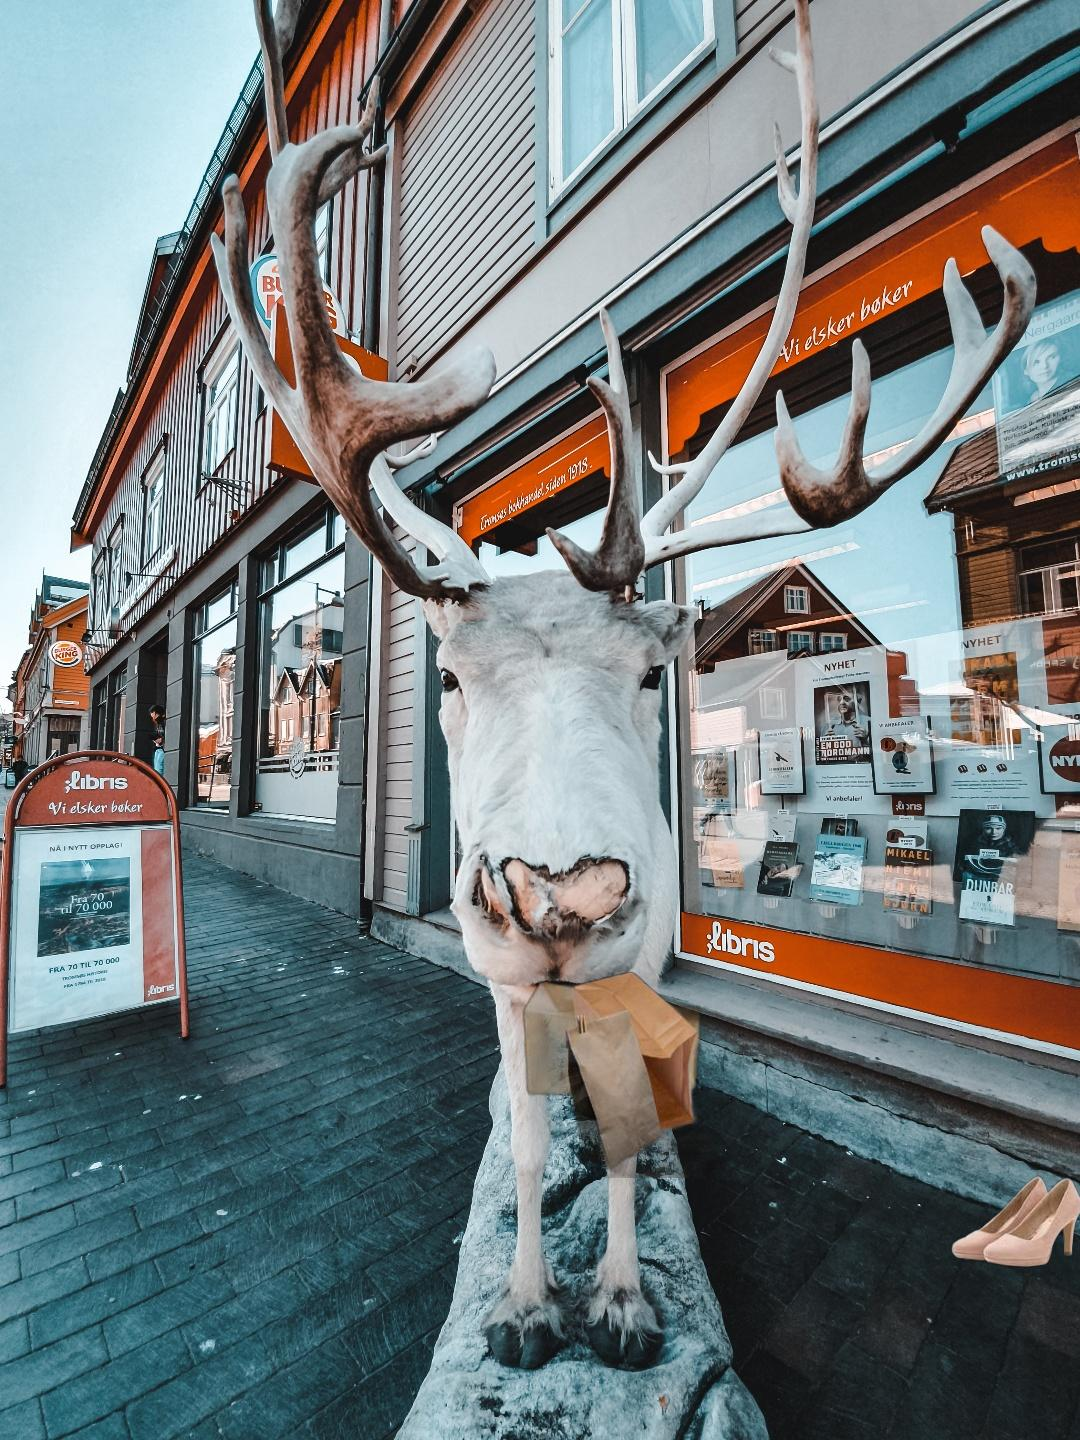paper-bag: (520, 969, 752, 1178)
shoes: (950, 1174, 1080, 1270)
